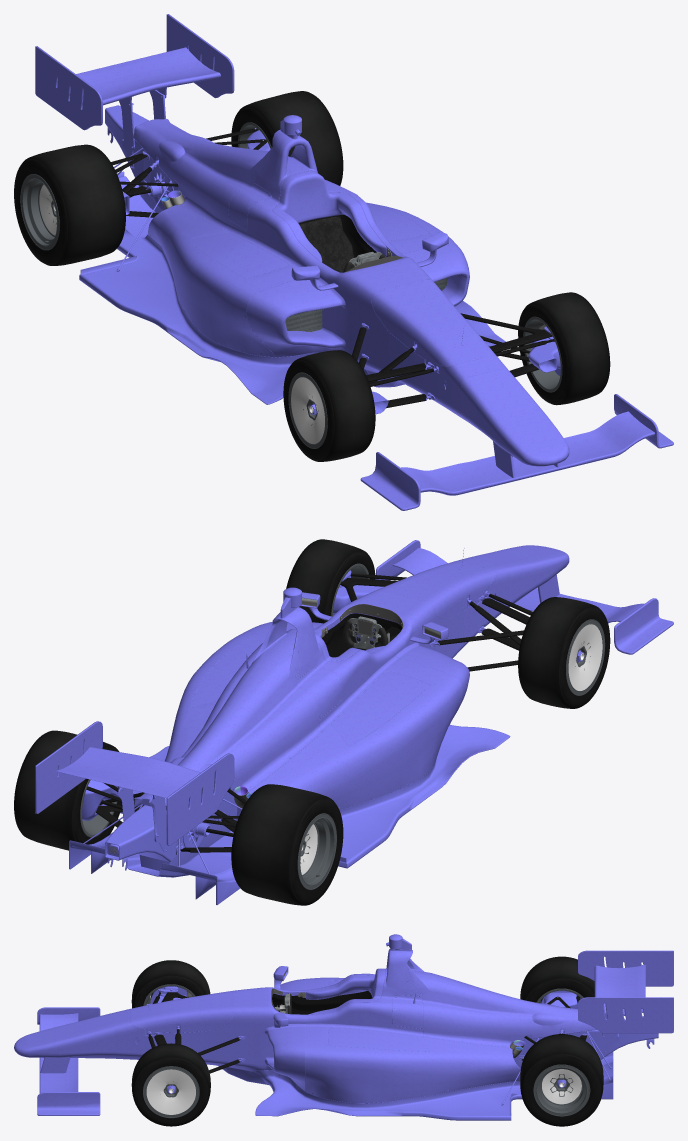
File: cavalier2.glb
3 renders of one model, top to bottom at view 1: azimuth 30°, elevation 25°; view 2: azimuth 150°, elevation 25°; view 3: azimuth 270°, elevation 25°, orthographic. The views are drawn at different scales.
Visible parts, largest first — view 1: urd_formulalights_oval; view 2: urd_formulalights_oval; view 3: urd_formulalights_oval.
Boxes of the visible parts, x1,y1,x2,y2 form: urd_formulalights_oval: (14, 14, 673, 510); urd_formulalights_oval: (14, 539, 673, 905); urd_formulalights_oval: (14, 934, 673, 1126).
Size of the model in its own units: 1.78 by 1.2 by 5.
Materials: 30 (30 with a texture image).
